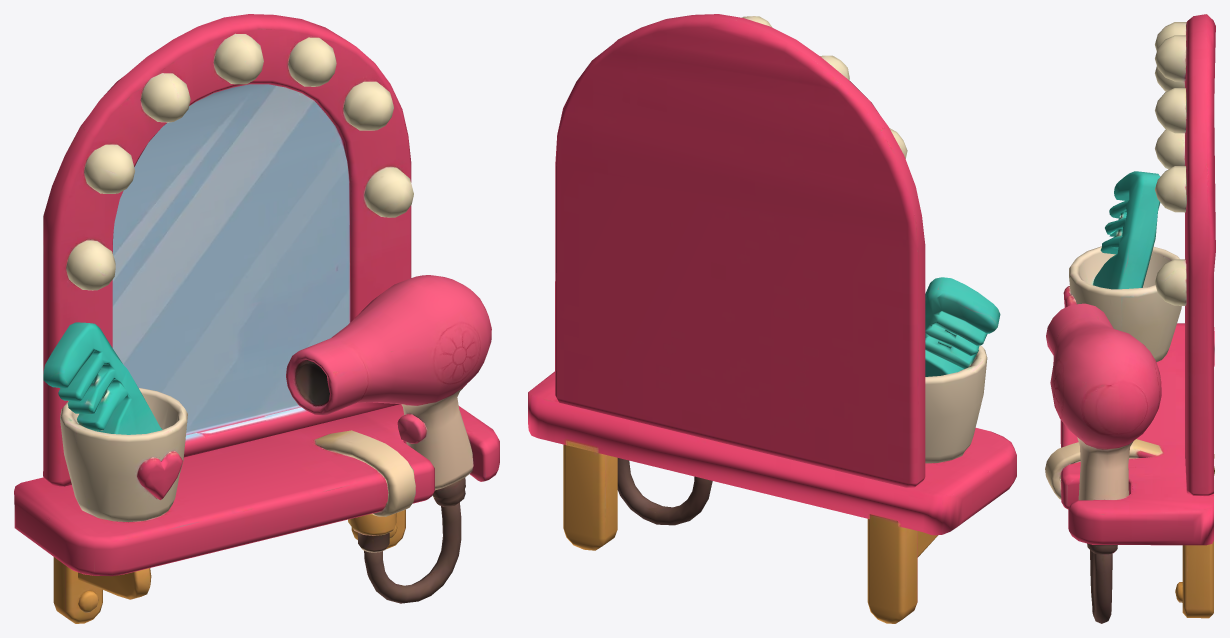
The model's file is salon-wall-dryer.glb.
3 views of the same model, side by side, from view 1: azimuth 30°, elevation 25°; view 2: azimuth 150°, elevation 25°; view 3: azimuth 270°, elevation 25° (orthographic). The views are drawn at different scales.
Bounding box in the file's own units: 0.754 × 0.9521 × 0.2783.
Materials: 1 (1 with a texture image).
